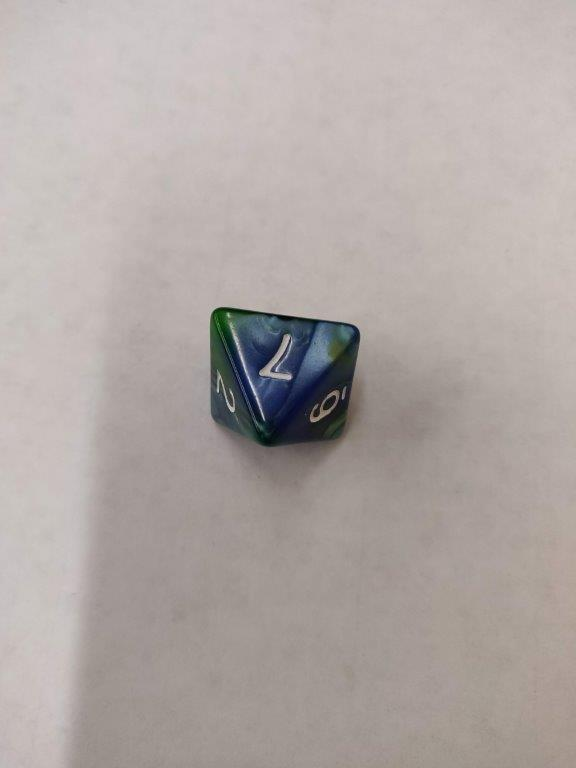d8-7: (206, 307, 359, 440)
